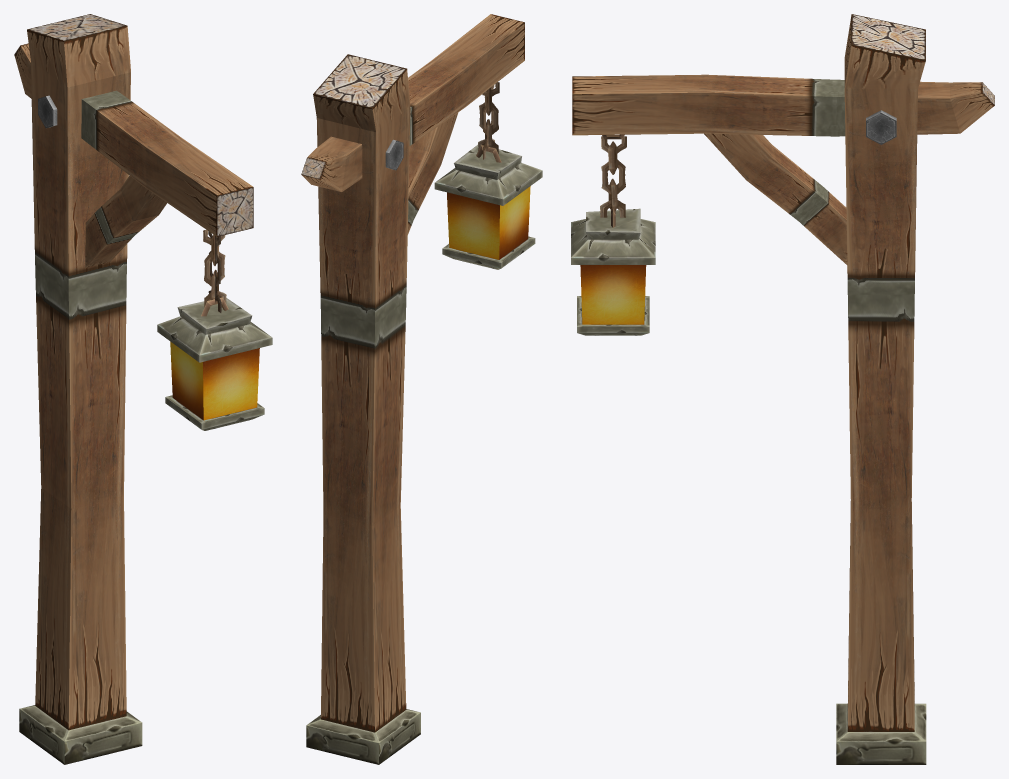
The model's file is lampPost.fbx.
3 views of the same model, side by side, from view 1: azimuth 30°, elevation 25°; view 2: azimuth 150°, elevation 25°; view 3: azimuth 270°, elevation 25° (orthographic). The views are drawn at different scales.
Parts seen in each view (by area): view 1: polySurface2; view 2: polySurface2; view 3: polySurface2.
Part boxes in pixels (x1,y1,x2,y2): polySurface2: (14, 14, 272, 764); polySurface2: (301, 14, 542, 764); polySurface2: (571, 14, 994, 764).
Bounding box in the file's own units: 2.69 × 23.6 × 12.65.
